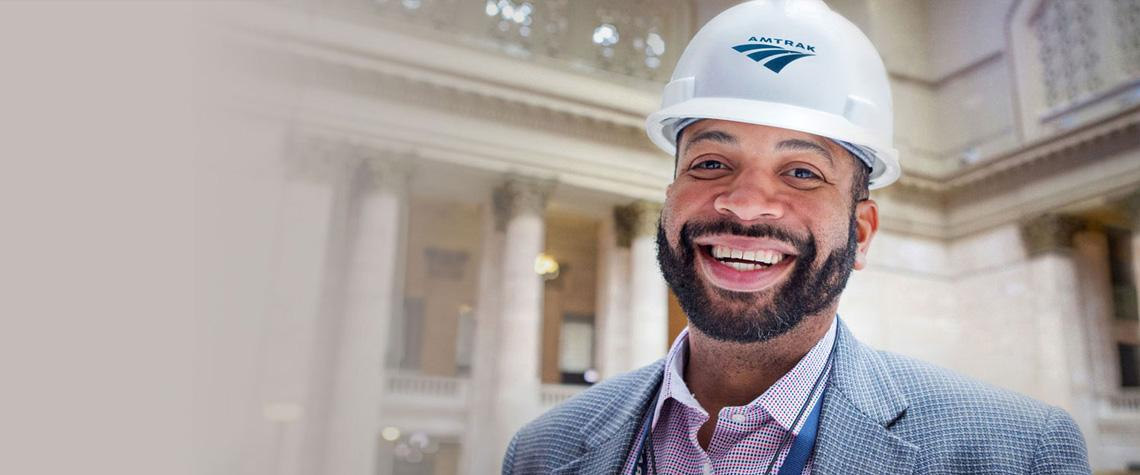helmet: (643, 2, 903, 185)
